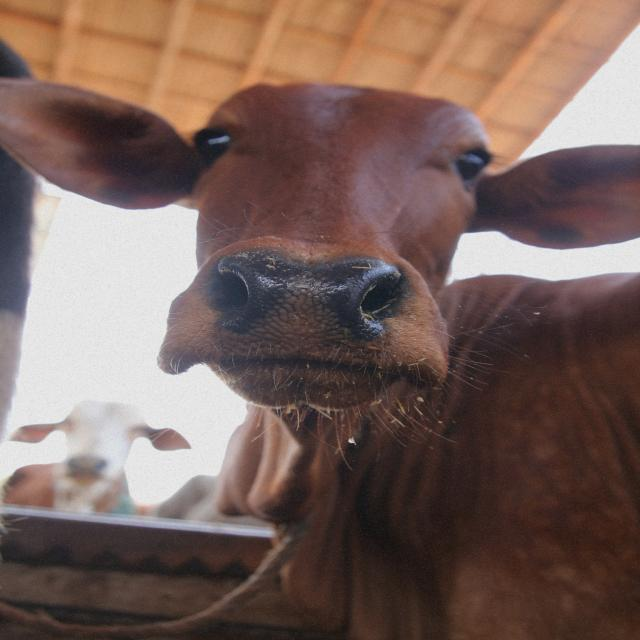muzzles: (189, 244, 423, 368), (57, 454, 118, 482)
